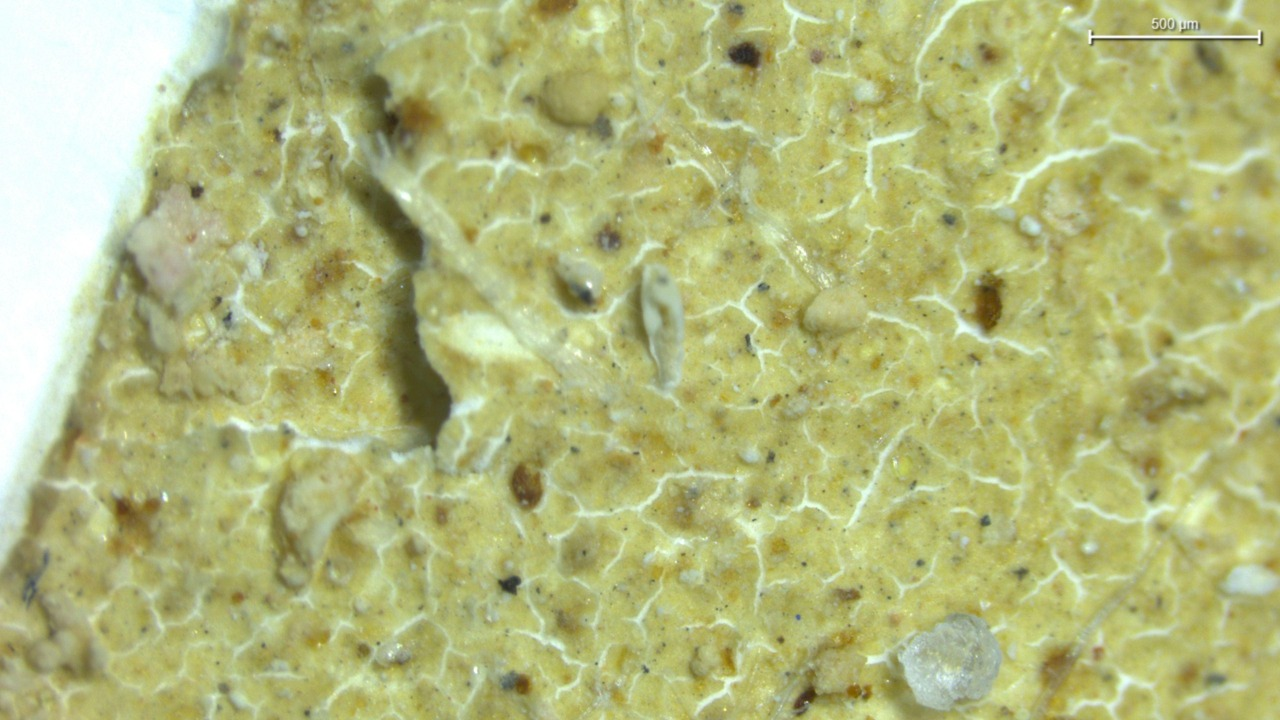microplastic_fragment: (127, 183, 228, 305), (896, 613, 1002, 711), (540, 71, 613, 126), (803, 285, 868, 334), (813, 648, 874, 694), (556, 261, 603, 305), (1019, 215, 1042, 237)
